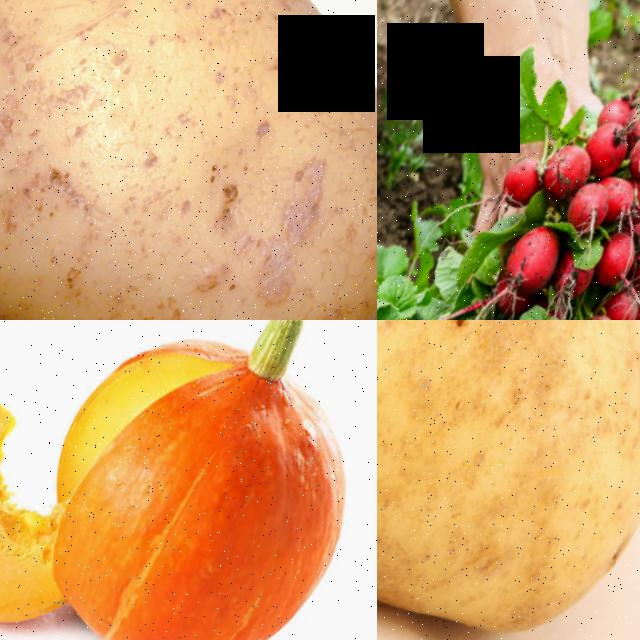potato: (0, 0, 377, 320), (377, 320, 640, 640)
pumpkin: (8, 320, 377, 640), (0, 358, 103, 639)
radishes: (416, 28, 640, 320)
